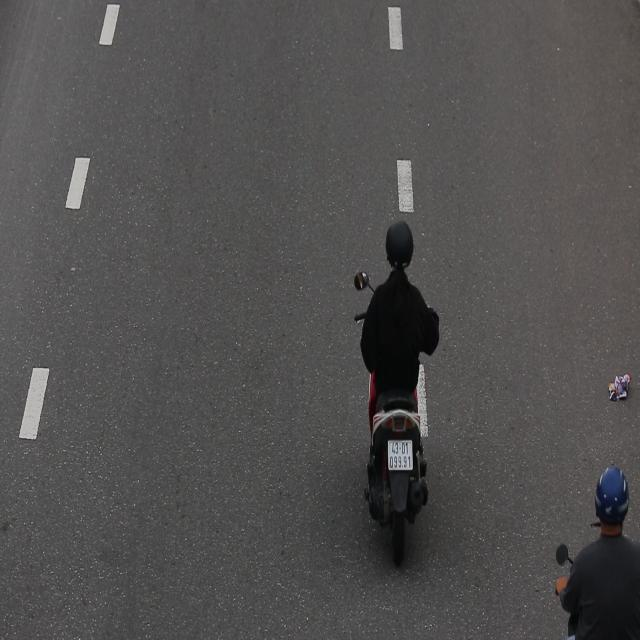motorbike: (348, 208, 449, 580)
